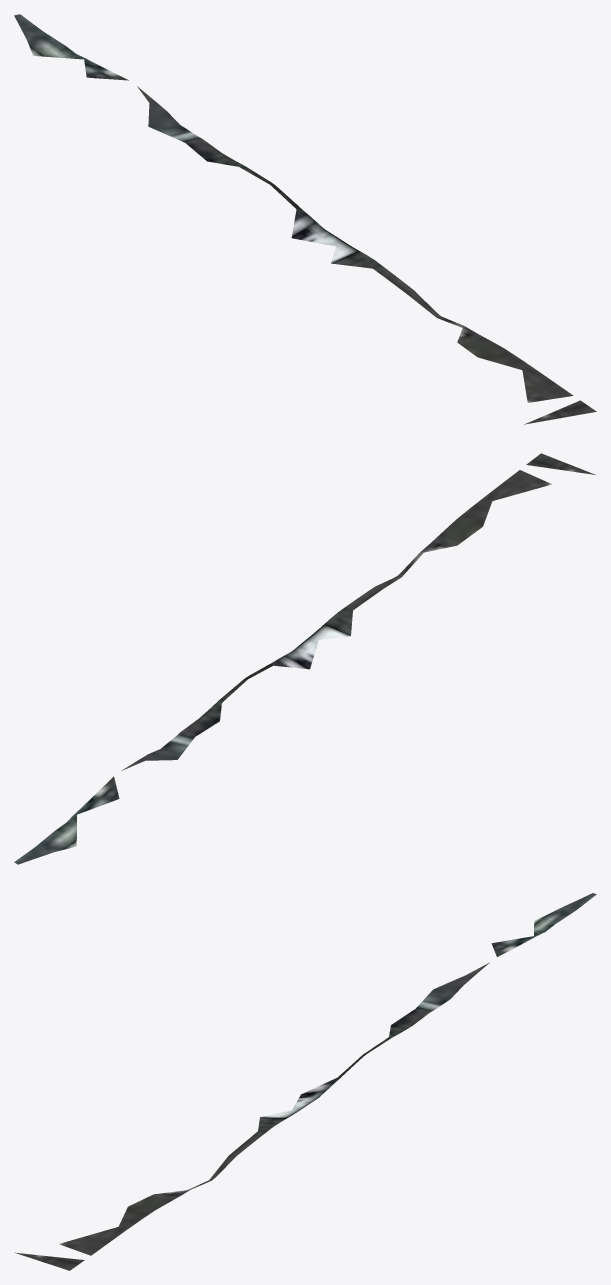
Rendered from Tile_000_003_L14_4332.glb.
3 renders of one model, top to bottom at view 1: azimuth 30°, elevation 25°; view 2: azimuth 150°, elevation 25°; view 3: azimuth 330°, elevation 25°, orthographic. The views are drawn at different scales.
Parts seen in each view (by area): view 1: rtc; view 2: rtc; view 3: rtc.
Part boxes in pixels (x1=…): rtc: x1=14, y1=14, x2=596, y2=424; rtc: x1=14, y1=453, x2=595, y2=864; rtc: x1=15, y1=893, x2=596, y2=1270.
Bounding box in the file's own units: 3.79 × 1.26 × 56.25.
1 material, 1 textured.
